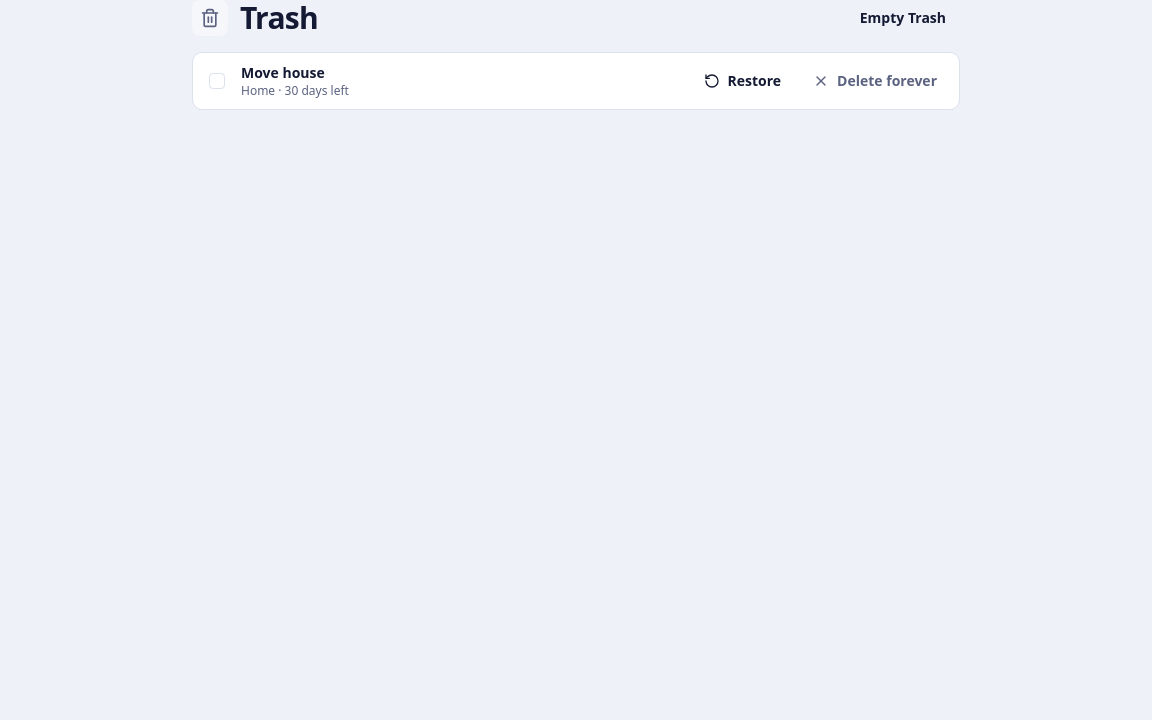
Test: The Trash › keeps the Task when the delete is cancelled
This screenshot has width=1152, height=720.
Click the button with aria-label "Delete “Move house” forever" at [875, 81], box [799,63,951,99]
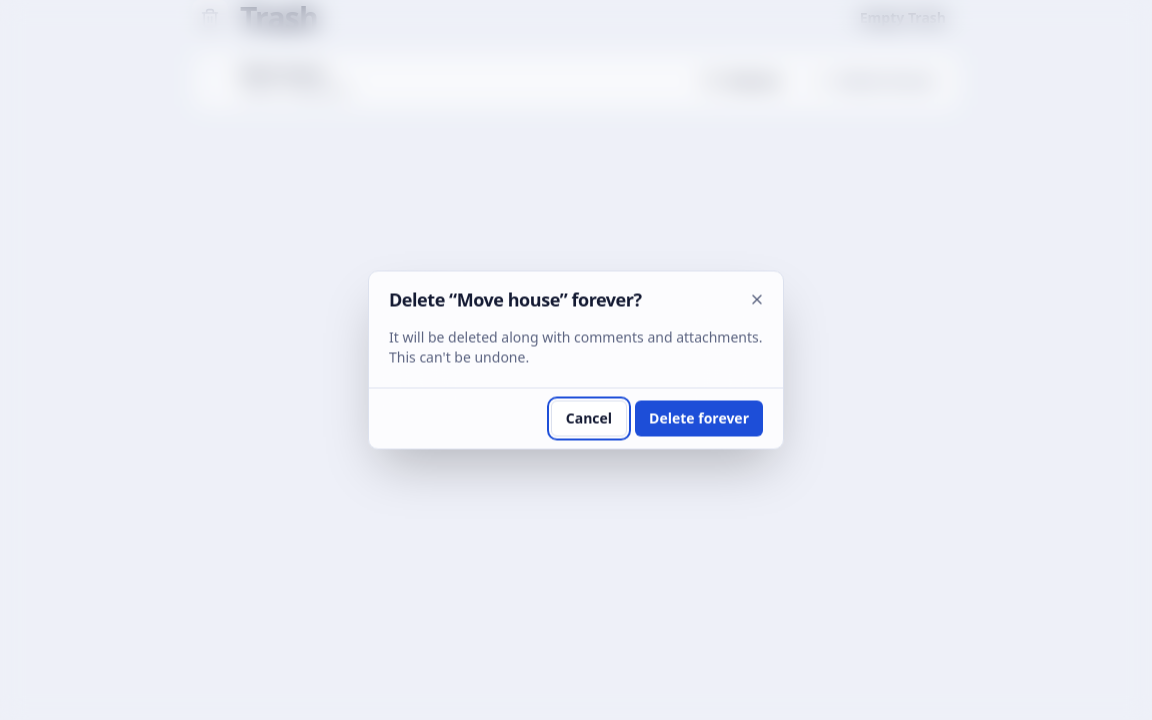
Click the button "Cancel" at [589, 418], box [551,400,627,436]
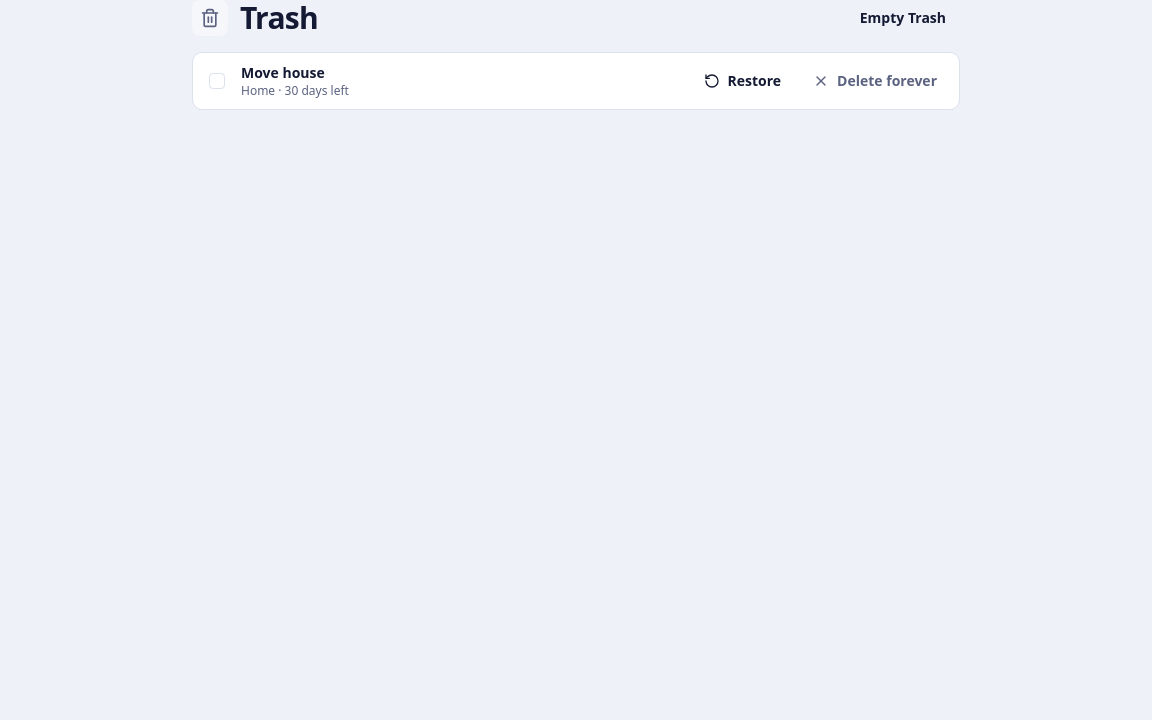
Check: the button with aria-label "Restore “Move house”" is shown, box [690,63,795,99]
Check: the dialog is gone
